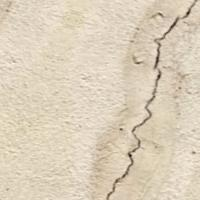crack: (90, 0, 199, 199)
